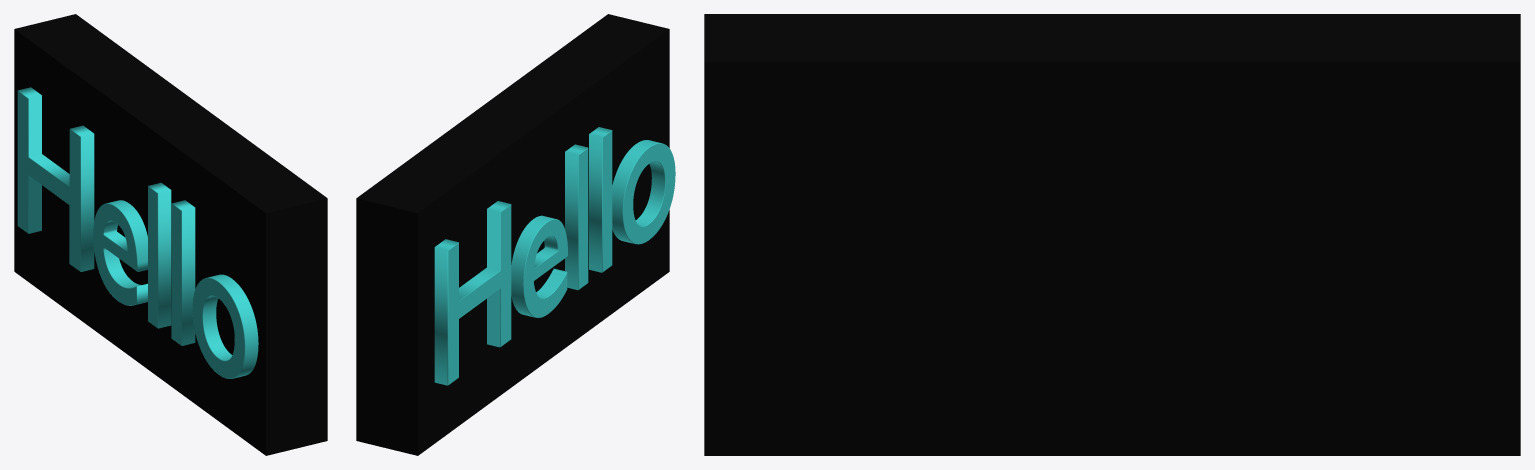
File: Sign (use this instead of the .blender file) .fbx
3 renders of one model, left to right at view 1: azimuth 30°, elevation 25°; view 2: azimuth 150°, elevation 25°; view 3: azimuth 270°, elevation 25°, orthographic. The views are drawn at different scales.
Parts seen in each view (by area): view 1: Cube, Text; view 2: Cube, Text; view 3: Cube.
Part boxes in pixels (box(x1,y1,x2,y2)): Cube: box(14, 14, 327, 455); Text: box(17, 87, 258, 378); Cube: box(356, 14, 669, 455); Text: box(434, 127, 675, 385); Cube: box(704, 14, 1520, 455).
Bounding box in the file's own units: 0.3984 × 1.23 × 2.31.
